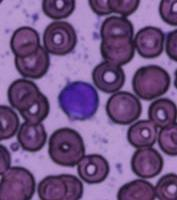L: (58, 80, 101, 120)
